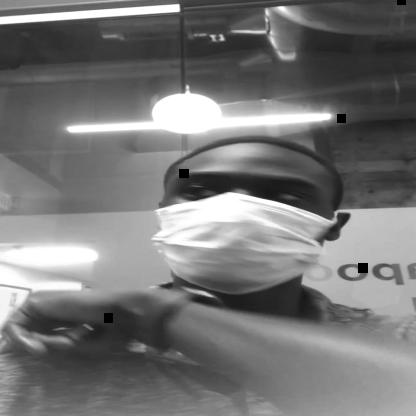mask: (155, 151, 340, 292)
